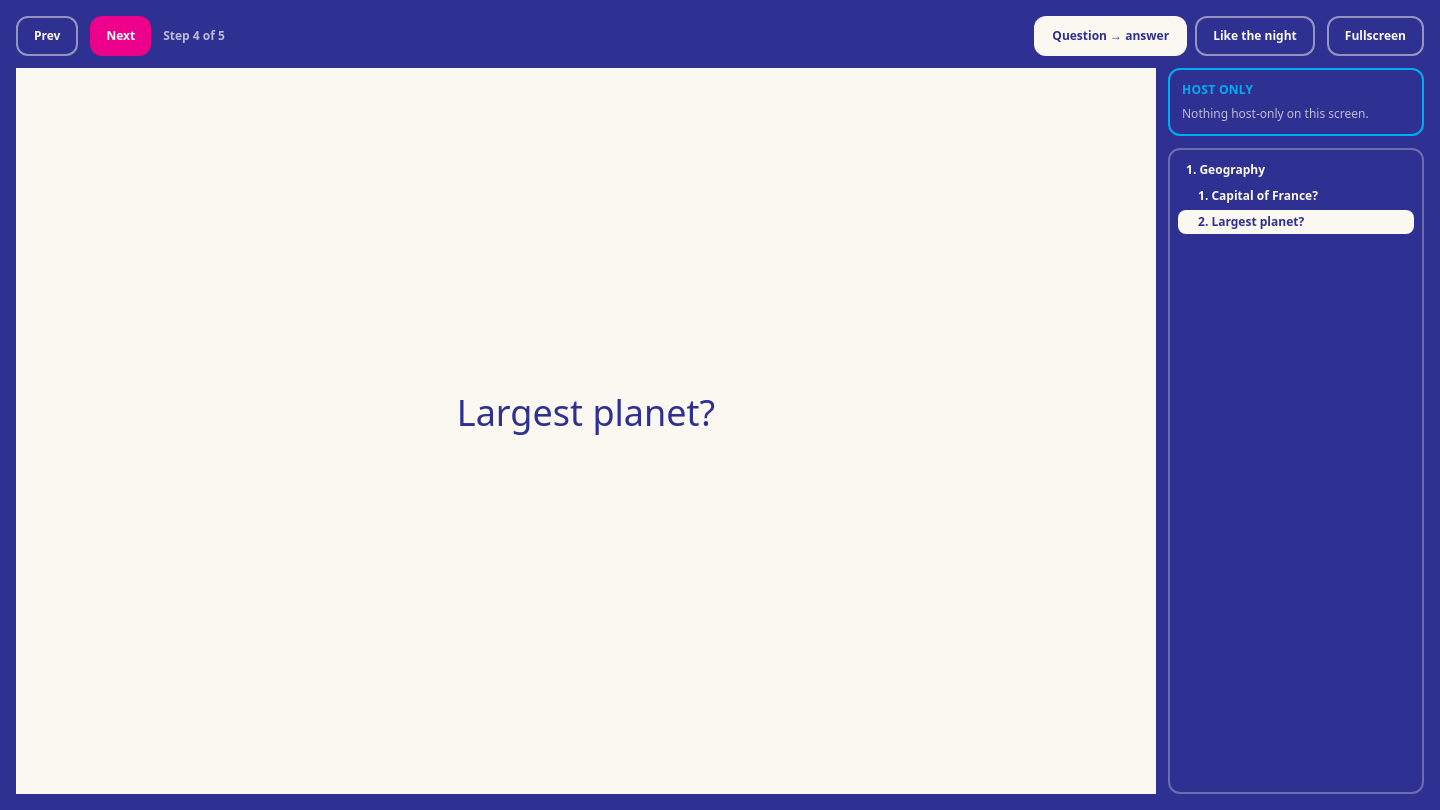
Test case: QuizPreviewPanel › jump list › moves back to a round title card and leaves ?at= out for the first step
expect the button "Next" is shown: met, box [90, 16, 151, 56]
Click the button "1. Geography" at (1296, 170), box [1178, 158, 1414, 182]
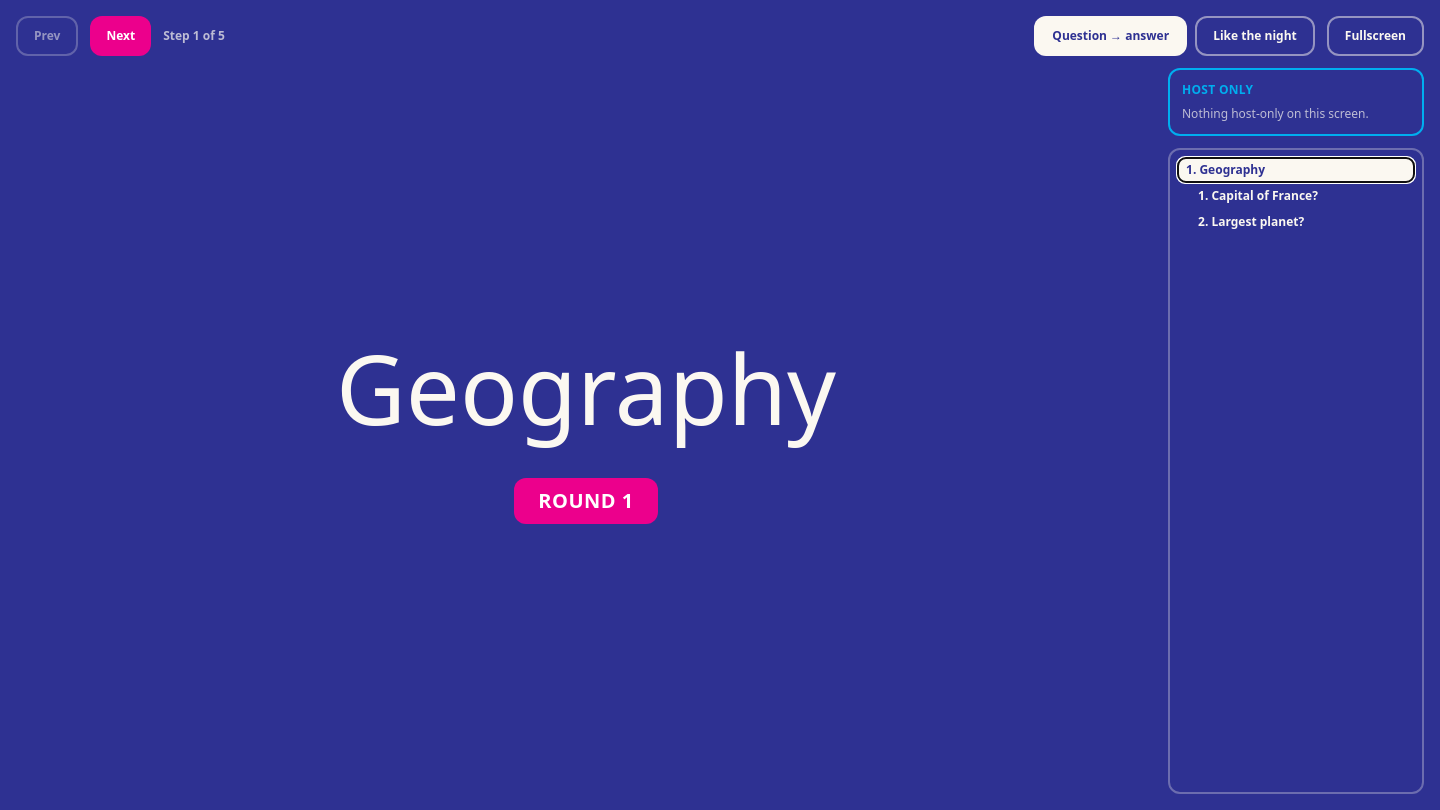
expect the text "Step 1 of 5" is shown: met, box [163, 28, 225, 44]
